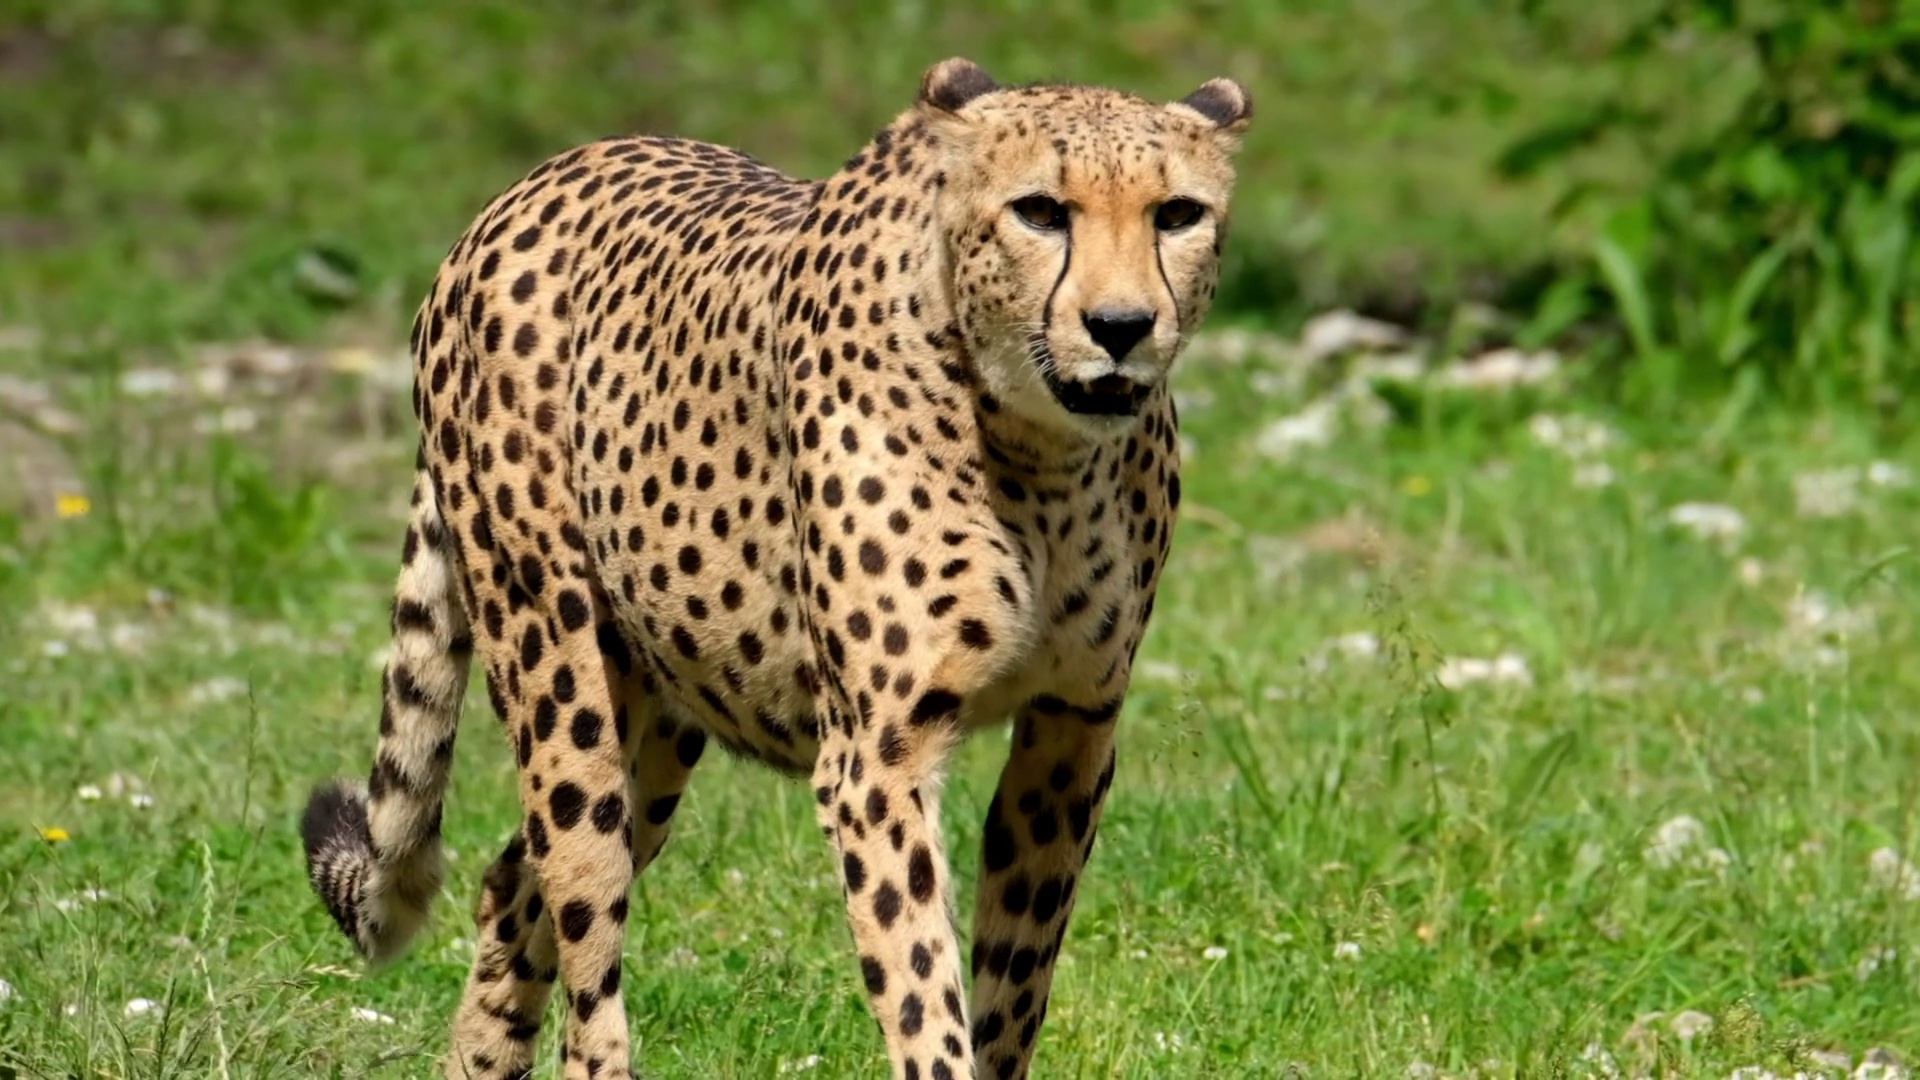Cheetah: (298, 49, 1261, 1080)
